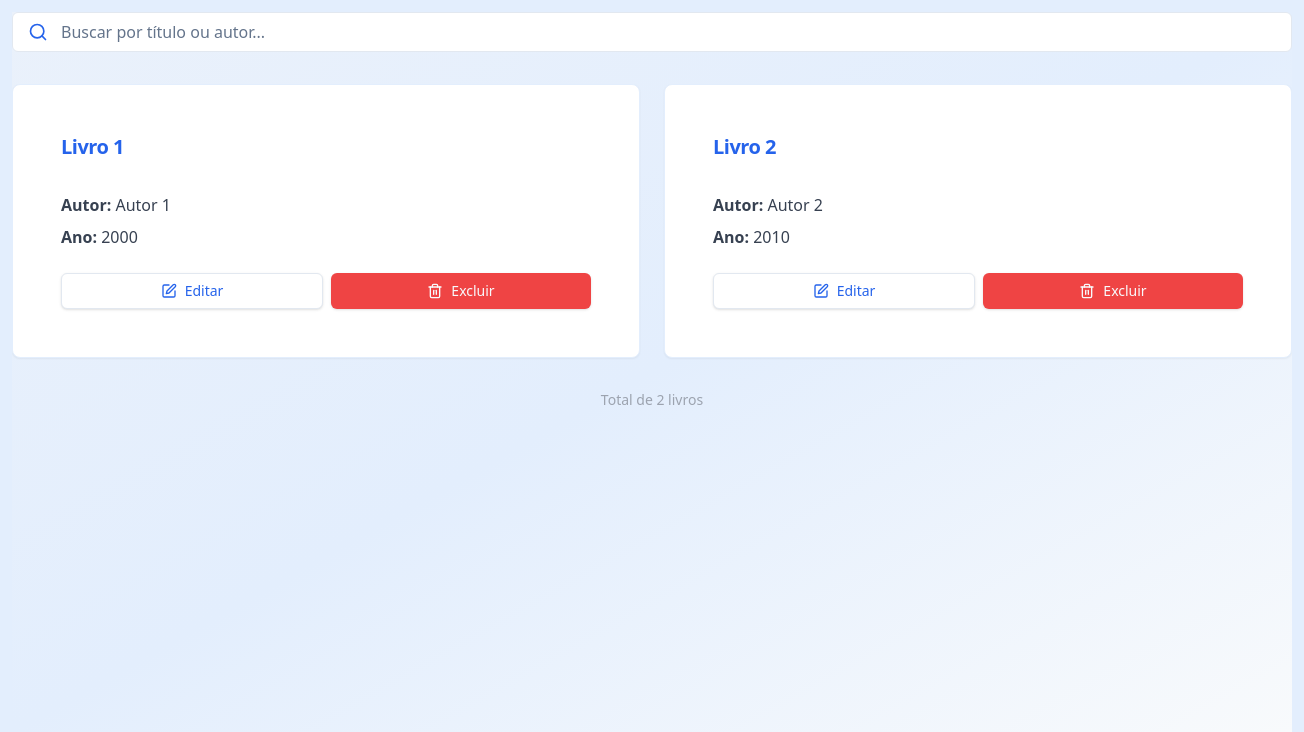
Test: BookList › deve filtrar livros pela busca
Expected: the heading "Livro 1" is shown, [61,133,124,160]
Type "2" into the field with placeholder "Buscar por título ou autor...". click: (652, 32)
box: [12,12,1292,52]
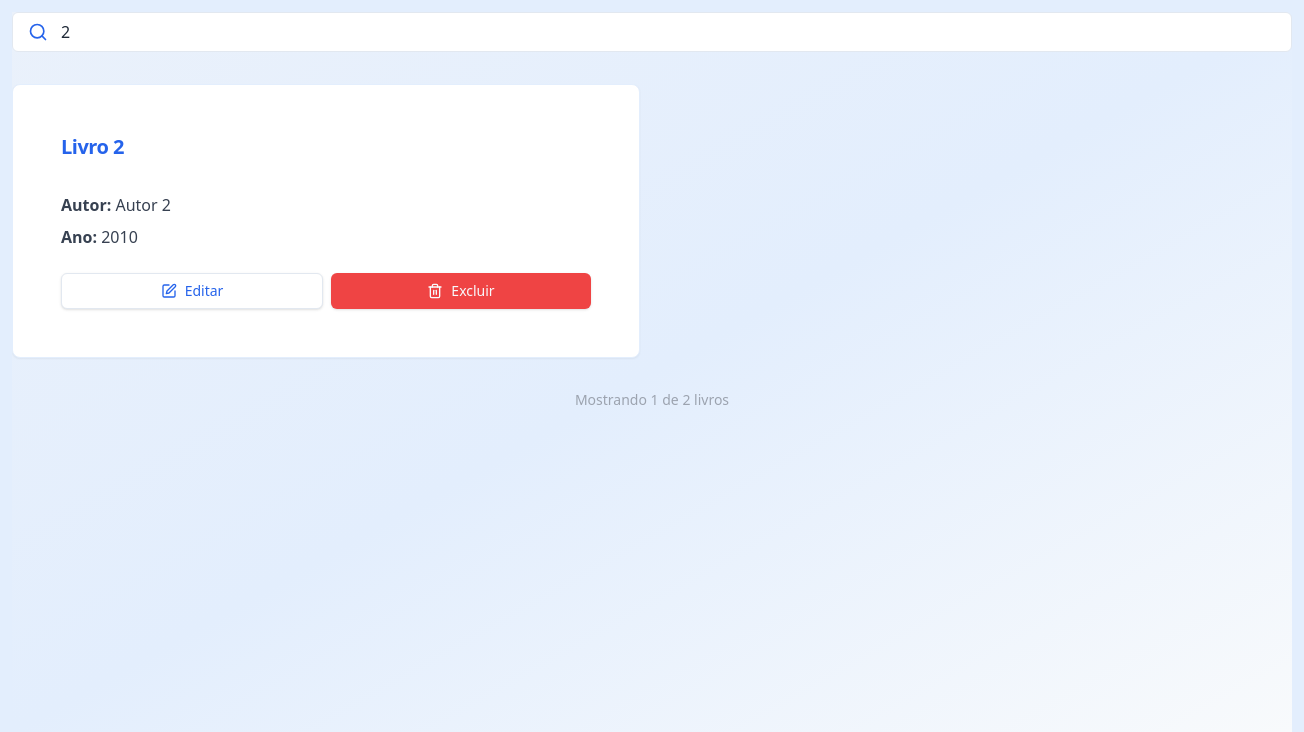
Expected: the heading "Livro 2" is shown, [61,133,124,160]
Expected: the heading "Livro 1" is gone
